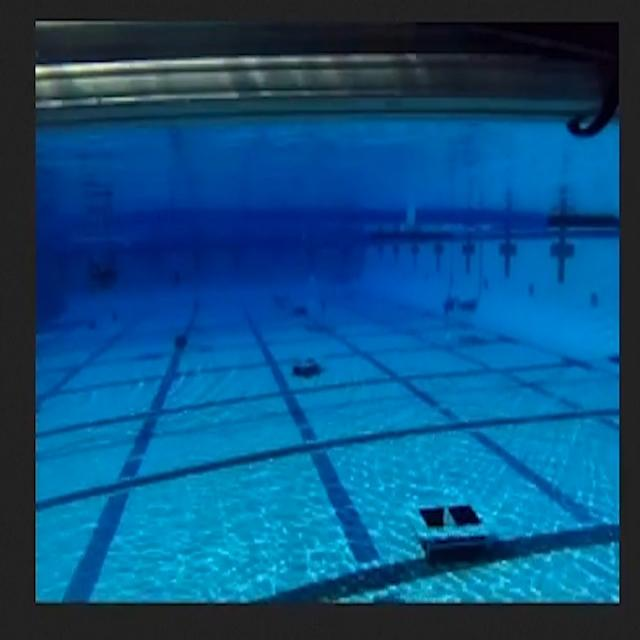Bin: (402, 480, 509, 580)
